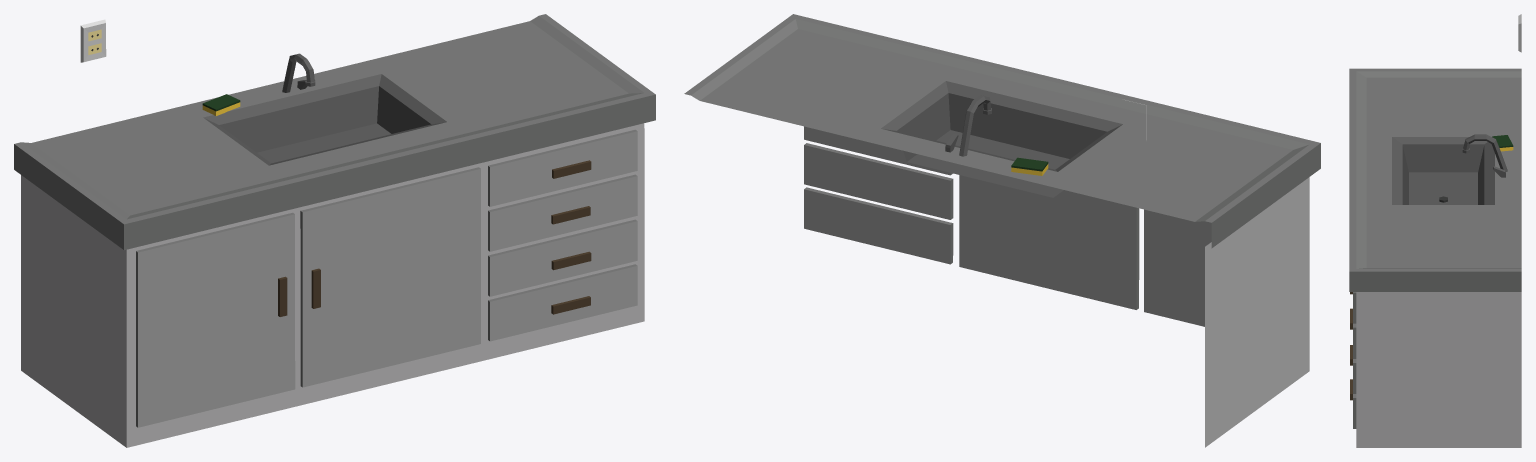
File: KitchenSink2.glb
The picture shows the model from 3 angles, left to right: view 1: azimuth 30°, elevation 25°; view 2: azimuth 150°, elevation 25°; view 3: azimuth 270°, elevation 25°; orthographic projection. The views are drawn at different scales.
Visible parts, largest first — view 1: KitchenSink2; view 2: KitchenSink2; view 3: KitchenSink2.
Boxes of the visible parts, x1,y1,x2,y2 form: KitchenSink2: (14,14,655,447); KitchenSink2: (684,14,1320,447); KitchenSink2: (1349,14,1521,447).
Bounding box in the file's own units: 2.19 × 1.3 × 0.7847.
Materials: 1 (1 with a texture image).
